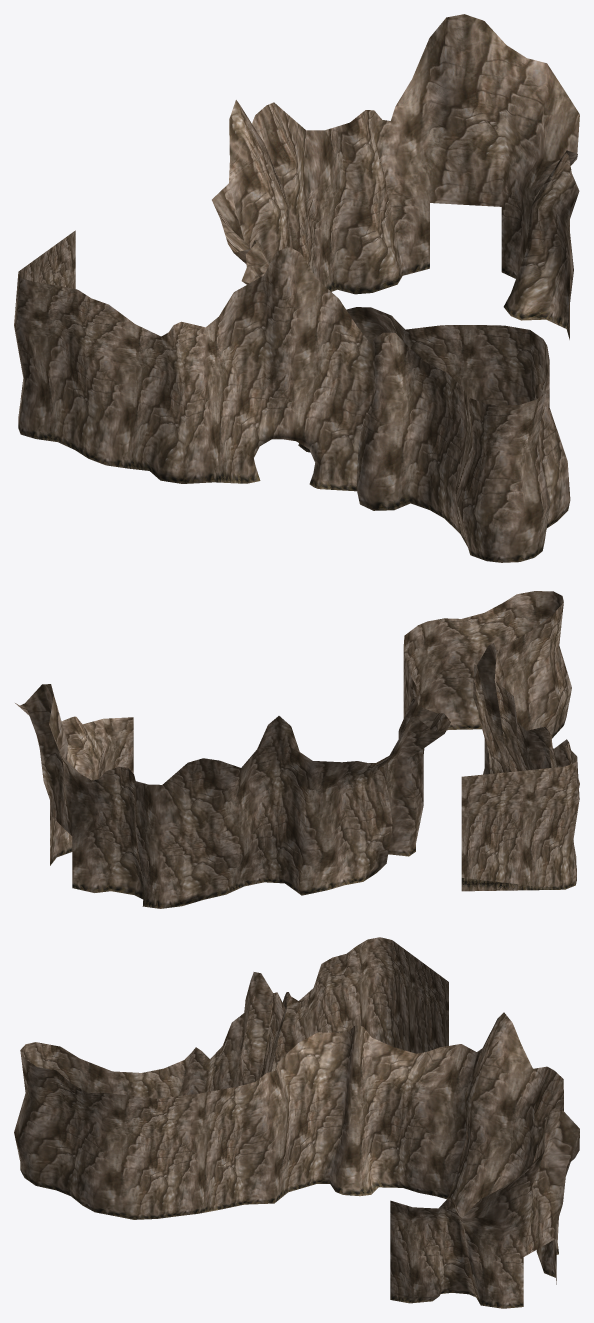
The model's file is OVERHILL_A_01_OH_B_OBJECT11.fbx.
The picture shows the model from 3 angles, top to bottom: view 1: azimuth 30°, elevation 25°; view 2: azimuth 150°, elevation 25°; view 3: azimuth 270°, elevation 25°; orthographic projection. The views are drawn at different scales.
Parts seen in each view (by area): view 1: OVERHILL_A_01_OH_B_OBJECT11; view 2: OVERHILL_A_01_OH_B_OBJECT11; view 3: OVERHILL_A_01_OH_B_OBJECT11.
Part boxes in pixels (x1,y1,x2,y2): OVERHILL_A_01_OH_B_OBJECT11: (14, 14, 579, 562); OVERHILL_A_01_OH_B_OBJECT11: (15, 591, 579, 908); OVERHILL_A_01_OH_B_OBJECT11: (14, 937, 579, 1308).
Size of the model in its own units: 335865 by 127596 by 342569.
2 materials, 2 textured.
